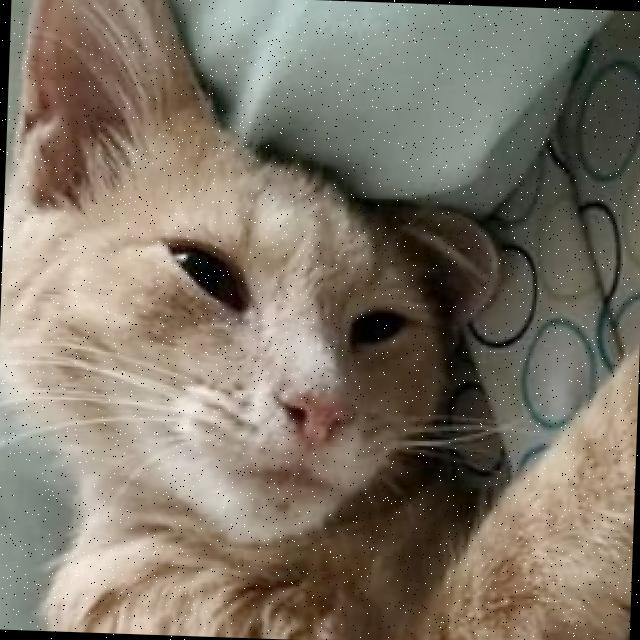Sad: (104, 187, 444, 522)
